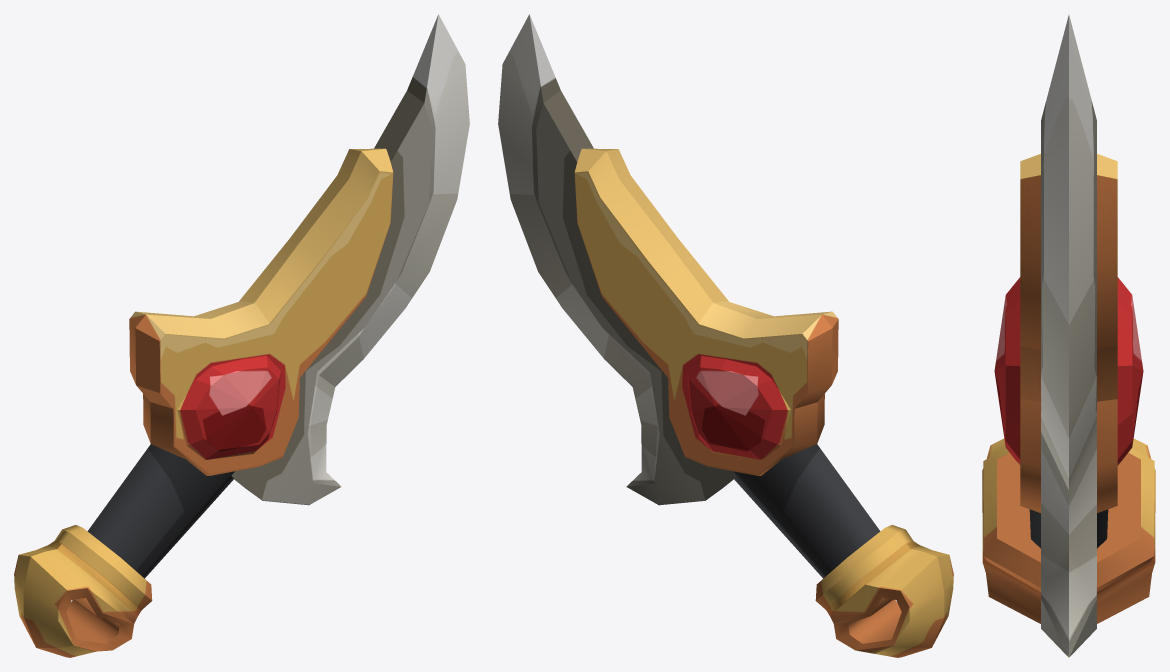
File: Crazy_02.FBX
3 views of the same model, side by side, from view 1: azimuth 30°, elevation 25°; view 2: azimuth 150°, elevation 25°; view 3: azimuth 270°, elevation 25° (orthographic). The views are drawn at different scales.
Visible parts, largest first — view 1: Crazy_02; view 2: Crazy_02; view 3: Crazy_02.
Boxes of the visible parts, box(x1,y1,x2,y2) form: Crazy_02: box(14, 14, 469, 657); Crazy_02: box(498, 14, 953, 657); Crazy_02: box(982, 15, 1155, 657).
Bounding box in the file's own units: 59.1 × 70.07 × 12.42.
